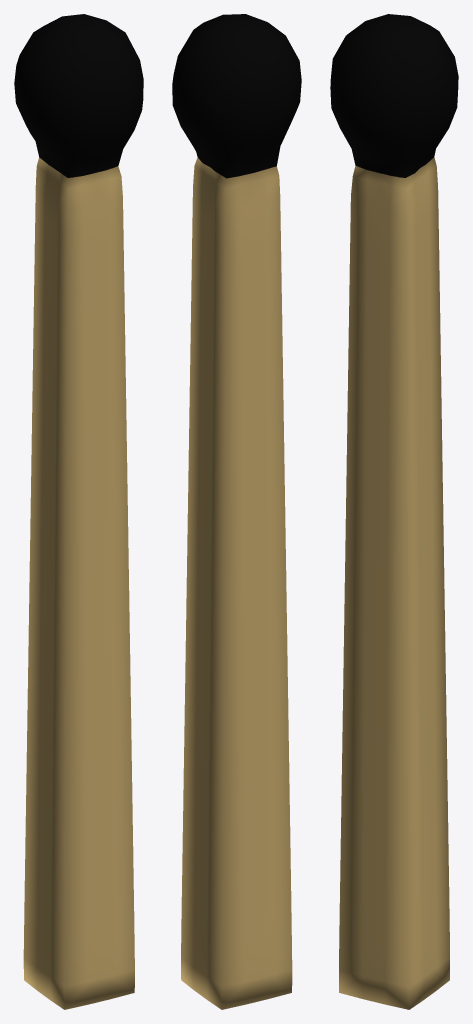
File: match.fbx
The picture shows the model from 3 angles, left to right: view 1: azimuth 30°, elevation 25°; view 2: azimuth 210°, elevation 25°; view 3: azimuth 330°, elevation 25°; orthographic projection.
Visible parts, largest first — view 1: match; view 2: match; view 3: match.
Part boxes in pixels (left/top/right/bottom): match: left=14, top=14, right=143, bottom=1009; match: left=172, top=14, right=301, bottom=1009; match: left=330, top=14, right=458, bottom=1009.
Size of the model in its own units: 179 by 1493 by 179.
Materials: 1 (1 with a texture image).
